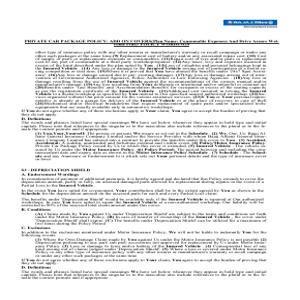text: (21, 165, 272, 283), (34, 49, 270, 109), (20, 109, 269, 163), (22, 35, 282, 49)
